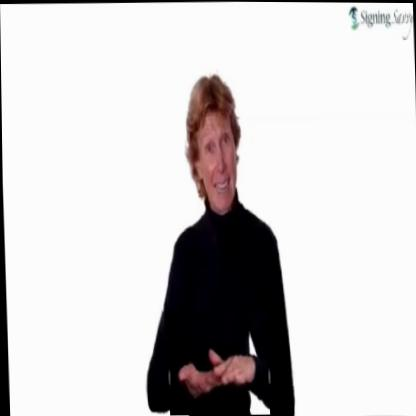NiceToMeetYou: (165, 309, 268, 416)
